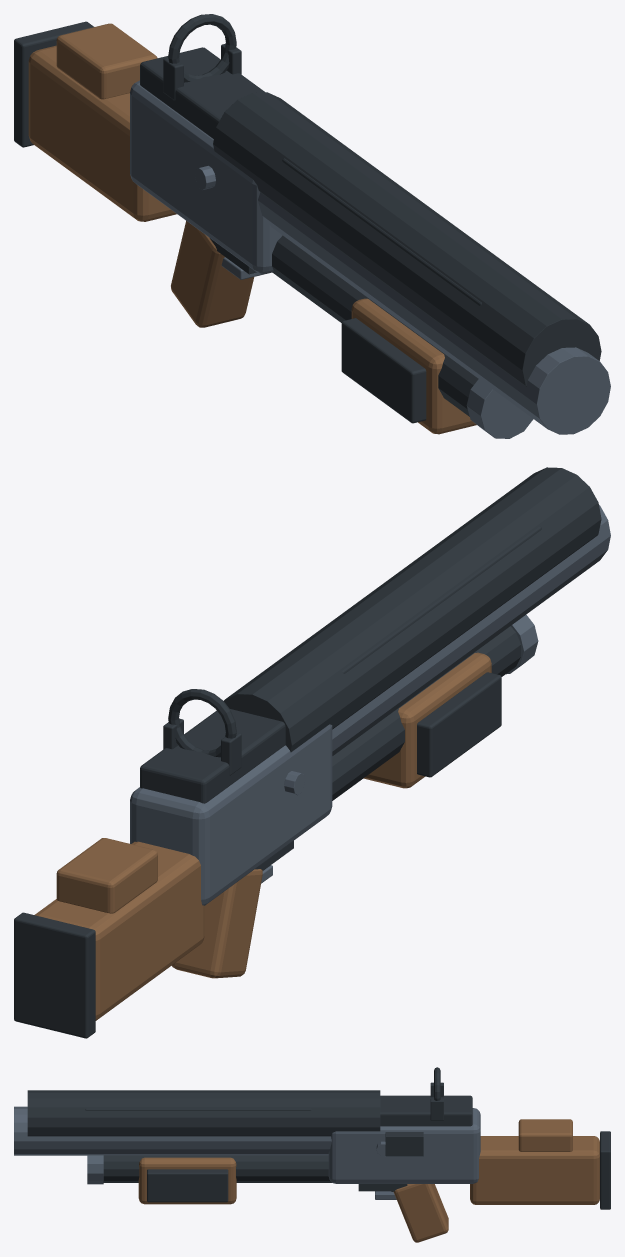
File: arma_escopeta.glb
The picture shows the model from 3 angles, top to bottom: view 1: azimuth 30°, elevation 25°; view 2: azimuth 150°, elevation 25°; view 3: azimuth 270°, elevation 25°; orthographic projection. The views are drawn at different scales.
Parts seen in each view (by area): view 1: arma_escopeta; view 2: arma_escopeta; view 3: arma_escopeta.
Boxes of the visible parts, left/top/right/bottom form: arma_escopeta: left=14, top=14, right=610, bottom=438; arma_escopeta: left=14, top=467, right=610, bottom=1038; arma_escopeta: left=14, top=1067, right=610, bottom=1242.
Size of the model in its own units: 0.1101 by 0.2952 by 0.95.
